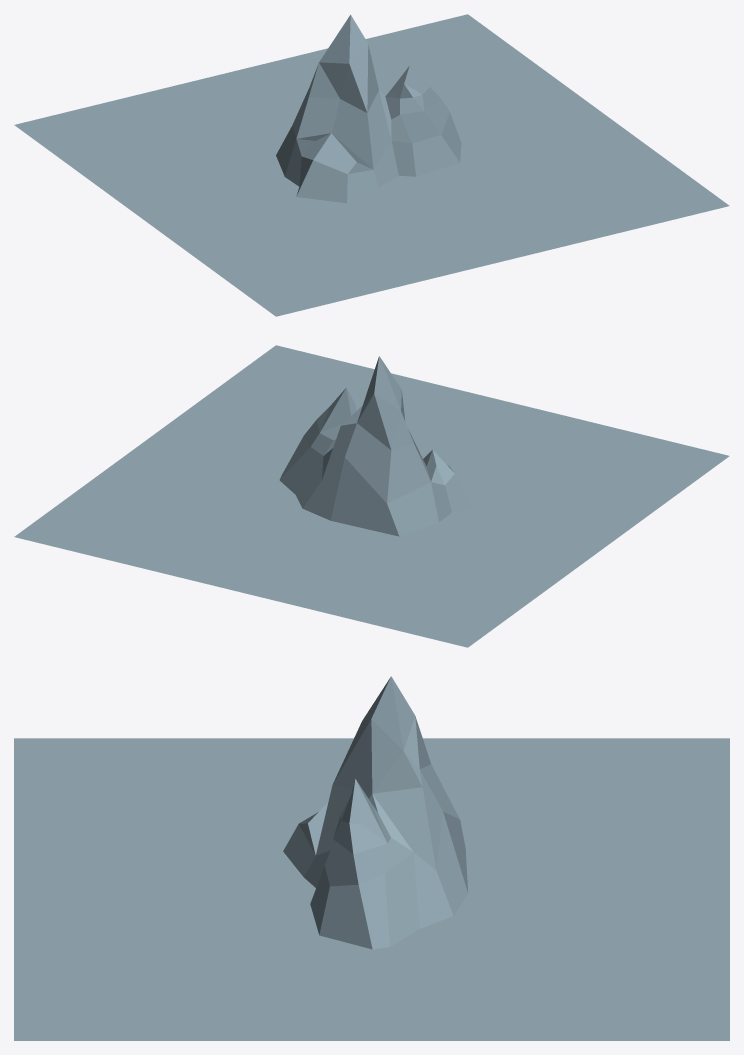
File: Tile 52_Combined.fbx
The picture shows the model from 3 angles, top to bottom: view 1: azimuth 30°, elevation 25°; view 2: azimuth 150°, elevation 25°; view 3: azimuth 270°, elevation 25°; orthographic projection. The views are drawn at different scales.
Visible parts, largest first — view 1: MeshBaker_mesh_mesh; view 2: MeshBaker_mesh_mesh; view 3: MeshBaker_mesh_mesh.
Boxes of the visible parts, <box> form: MeshBaker_mesh_mesh: <box>14,14,729,316</box>; MeshBaker_mesh_mesh: <box>14,345,729,647</box>; MeshBaker_mesh_mesh: <box>14,676,729,1040</box>.
Size of the model in its own units: 3000 by 944 by 3000.
